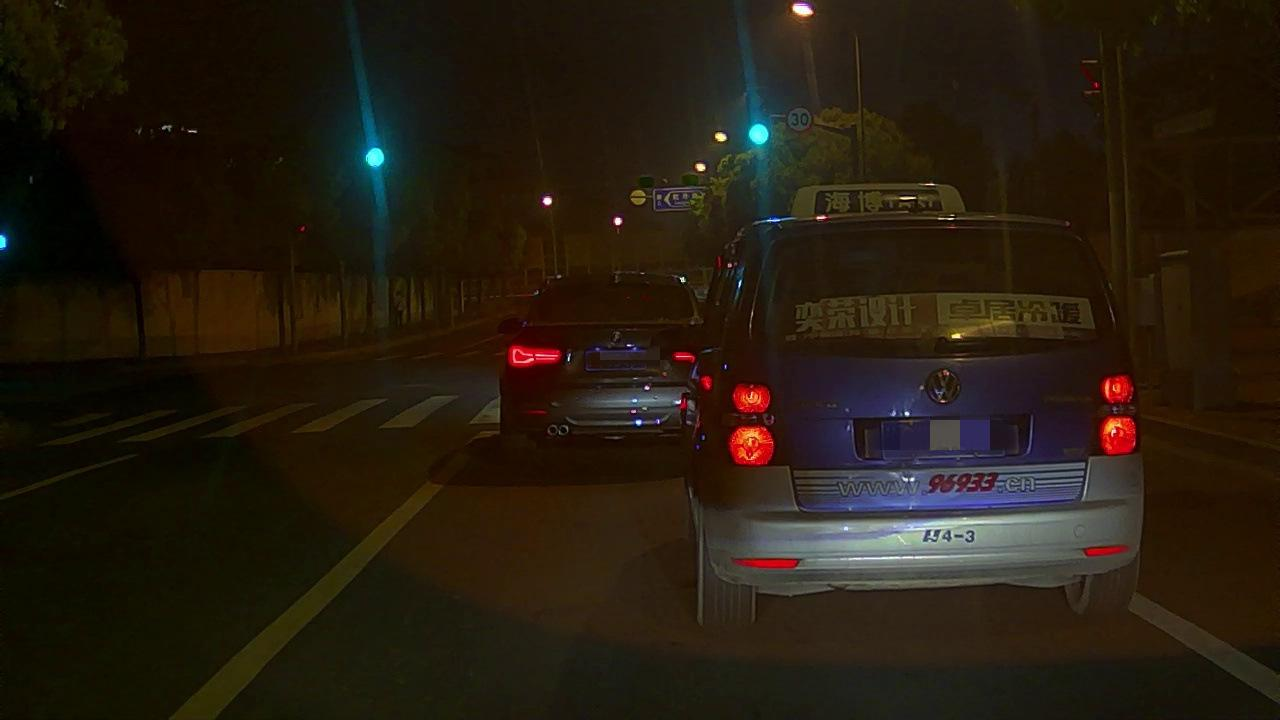traffic_light: (751, 124, 767, 146), (366, 149, 385, 166)
